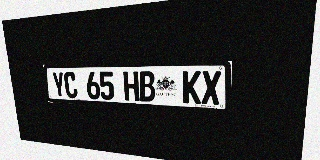5: (99, 71, 115, 100)
6: (85, 72, 101, 99)
B: (139, 71, 156, 102)
C: (63, 72, 78, 98)
H: (123, 71, 139, 101)
K: (183, 71, 201, 104)
X: (201, 71, 221, 105)
Y: (51, 72, 66, 98)
